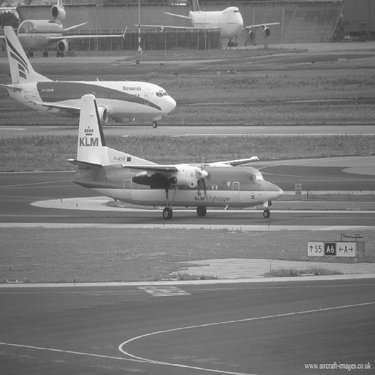airplane: (62, 89, 298, 223), (2, 21, 183, 130), (2, 1, 133, 72), (117, 5, 288, 56)
